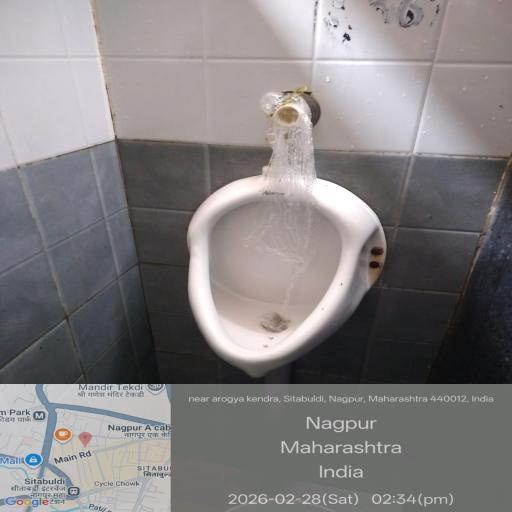clean_floor: (11, 6, 171, 486), (209, 399, 512, 512)
clean_urinal: (169, 88, 403, 396)
damage: (170, 8, 350, 286)
